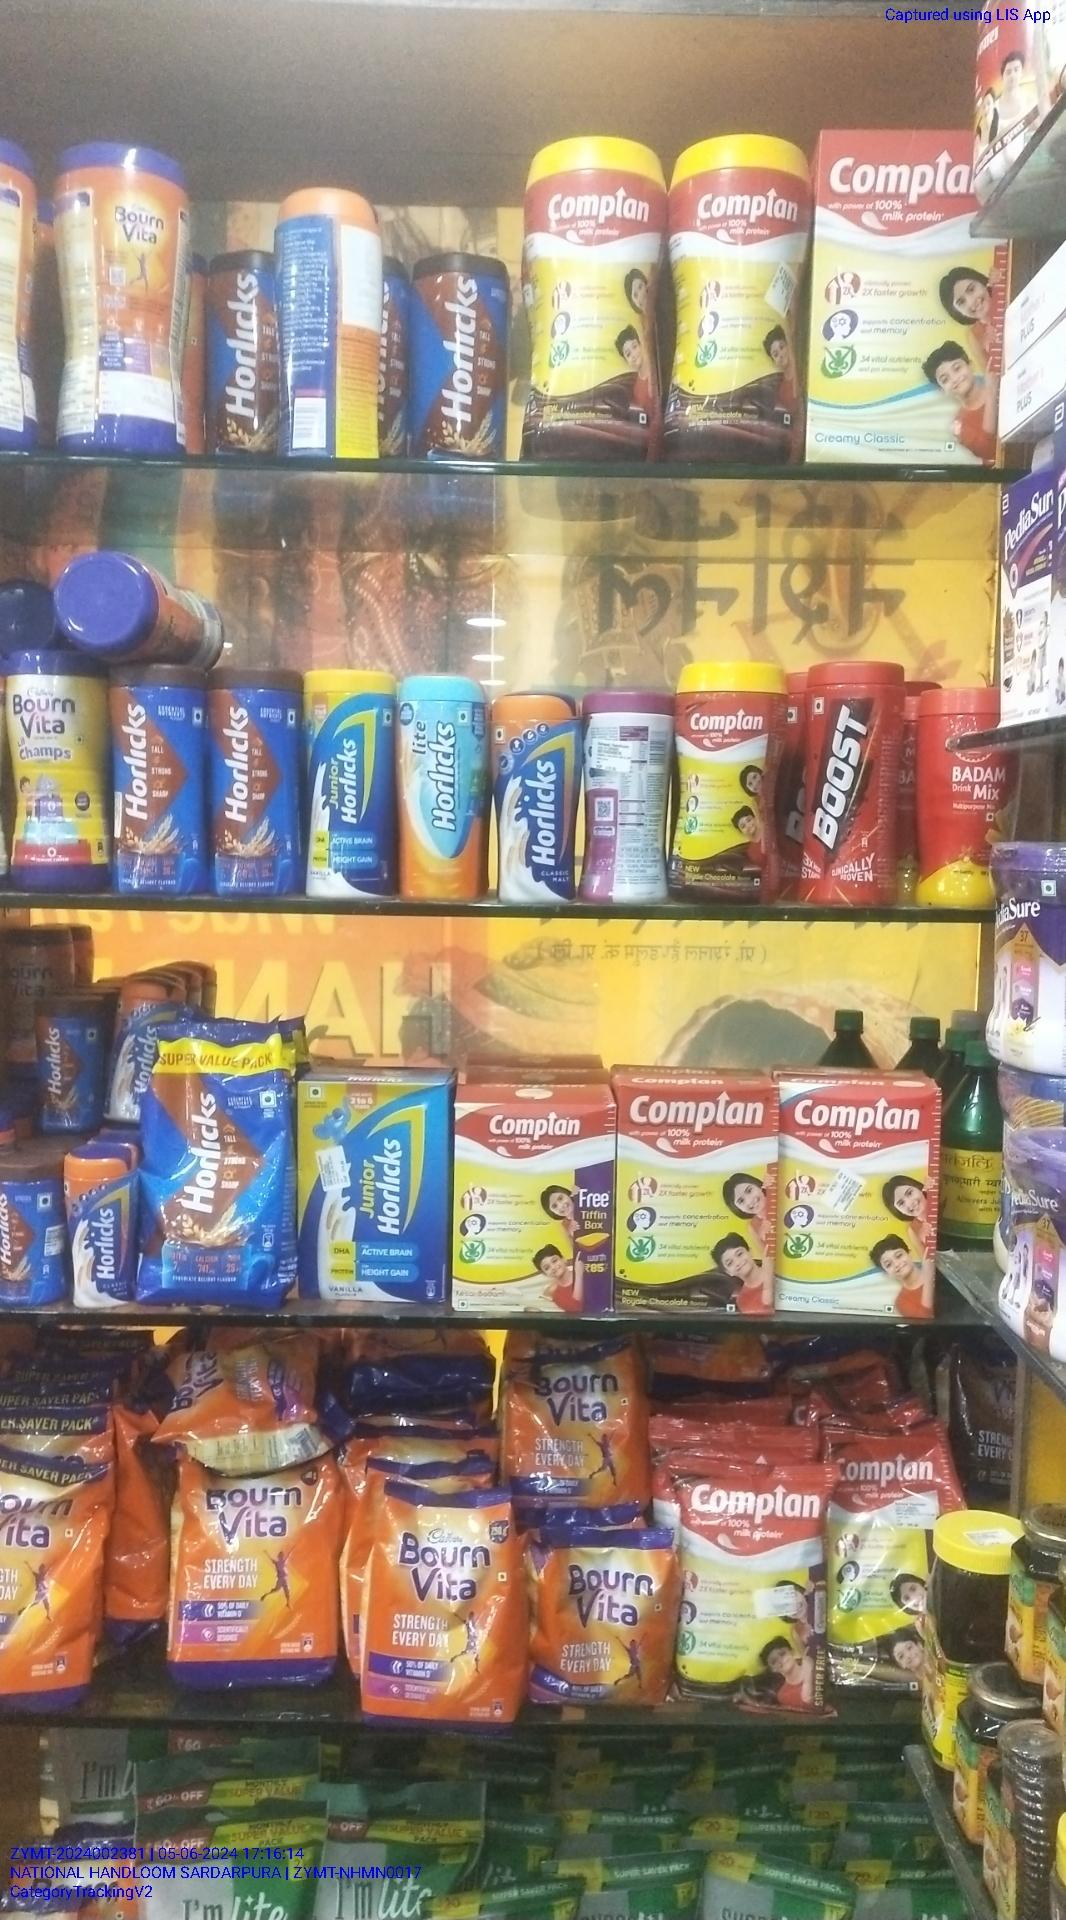BOURN_VITA_1_KG_JAR: (56, 140, 190, 457)
BOURN_VITA_500_G_POUCH: (358, 1488, 521, 1731), (179, 1441, 335, 1686), (512, 1352, 646, 1503)
BOURN_VITA_75_G_POUCH: (538, 1526, 670, 1709)
BOURN_VITA_CHAMPS_500_G_JAR: (5, 654, 109, 894)
COMPLAN_CHOCOLATE_500_GMS_JAR: (666, 134, 797, 448), (526, 140, 654, 445), (672, 664, 786, 904)
COMPLAN_CHOCOLATE_500_GMS_PACK: (618, 1087, 776, 1322), (679, 1465, 824, 1718)
COMPLAN_CREAMY_CLASSIC_500_G_PACK: (777, 1089, 936, 1322)
HORLICKS_JUNIOR_VANILLA_500_GM_JAR: (305, 672, 395, 902)
HORLICKS_LITE_REGULAR_MALT_500_GM_JAR: (402, 677, 487, 899)
HORLICK_CHOCOLATE_1_KG_PACK: (140, 1029, 293, 1310)
HORLICK_CHOCOLATE_200_G_JAR: (416, 257, 509, 459), (207, 255, 272, 451)
HORLICK_CHOCOLATE_500_G_JAR: (205, 672, 297, 898), (114, 669, 203, 892)
HORLICK_CLASSIC_MALT_500_G_JAR: (492, 690, 574, 902)
